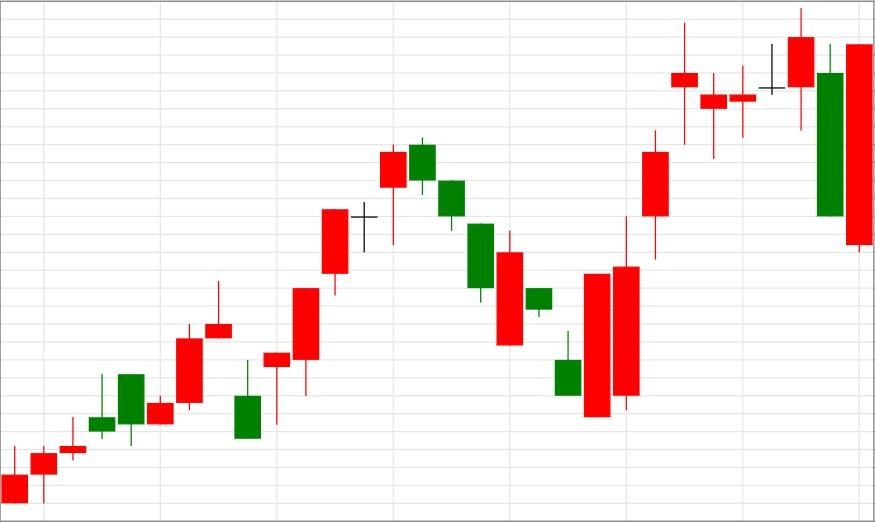bullish_engulfing_rise: (408, 137, 612, 418)
three_black_crows_fall: (233, 137, 495, 440)
